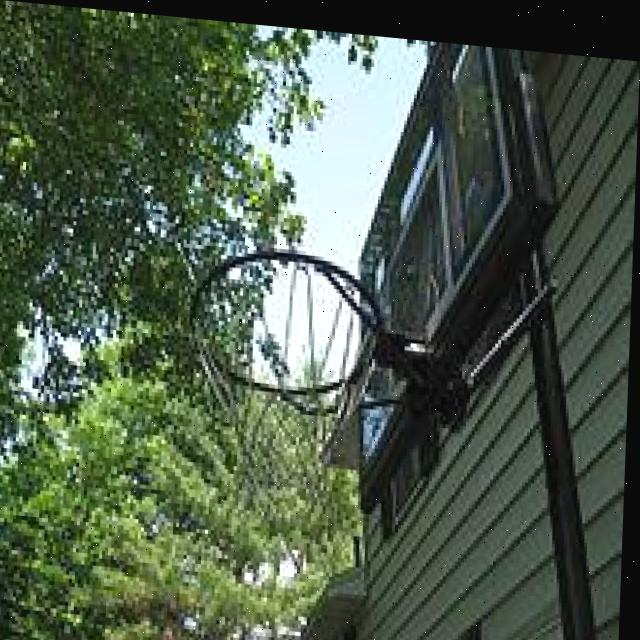hoop: (182, 241, 385, 531)
